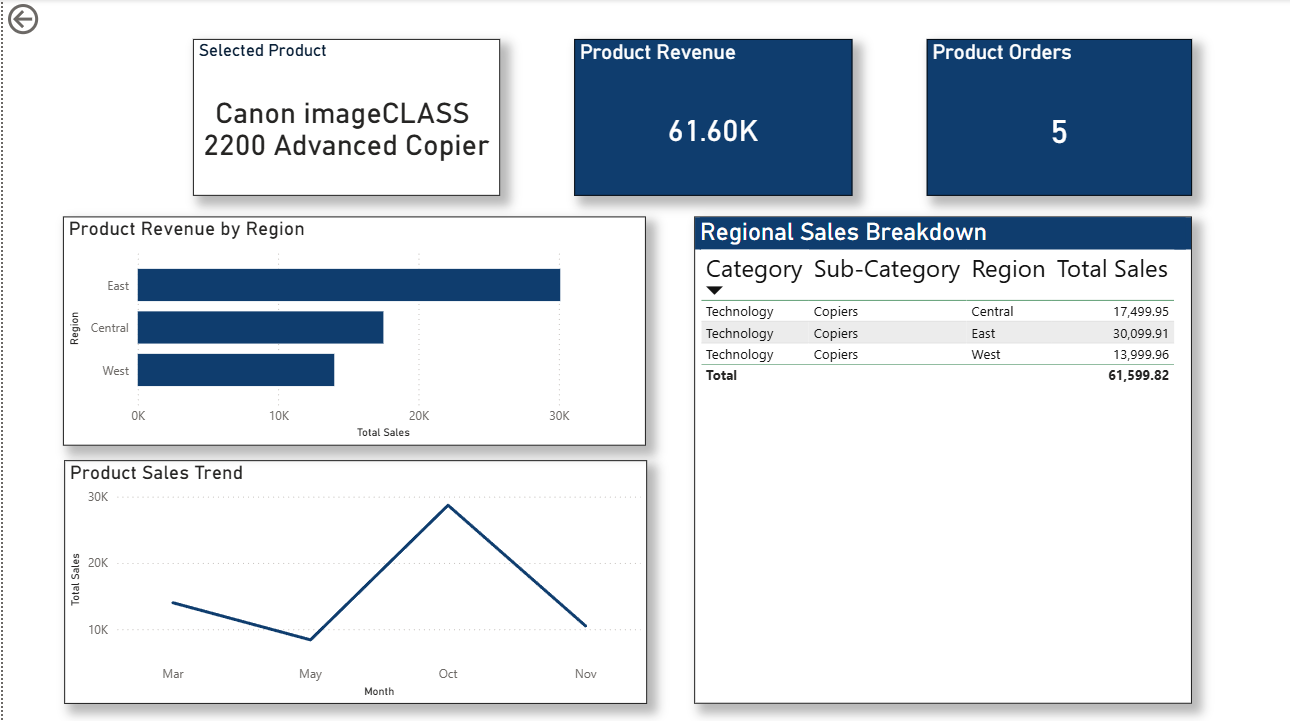

What the dashboard file says about the page in this screenshot:
{"tool":"powerbi","page":{"name":"Product Deep Dive Analysis","canvas":[1280,720],"ordinal":5},"visuals":[{"type":"actionButton","box":[0,0,100,40],"z":0},{"type":"card","title":"Product Revenue","fields":{"Values":["FactSales.Total Sales"]},"box":[568.4,40.4,277,155.8],"z":1},{"type":"card","title":"Product Orders","fields":{"Values":["FactSales.Total Orders"]},"box":[919,40.4,264,155.8],"z":2},{"type":"lineChart","title":"Product Sales Trend","fields":{"Category":["Date Table.Month"],"Y":["FactSales.Total Sales"]},"box":[60.6,458.8,580,242.4],"z":3},{"type":"clusteredBarChart","title":"Product Revenue by Region","fields":{"Category":["FactSales.Region"],"Y":["FactSales.Total Sales"]},"box":[59.7,216.4,579.7,227.6],"z":4},{"type":"tableEx","title":"Regional Sales Breakdown","fields":{"Values":["FactSales.Category","FactSales.Sub-Category","FactSales.Region","FactSales.Total Sales"]},"box":[688.2,216.4,494.9,484.8],"z":5},{"type":"card","title":"Selected Product ","fields":{"Values":["Min(FactSales.Product Name)"]},"box":[189,40.4,305.9,155.8],"z":6}]}

Visuals, with their boxes in screenshot pixels (x1, y1, x2, y2), scaled from the page's 1280x720 canvas onto the 1290x721 screenshot:
actionButton: <box>0,0,101,40</box>
"Product Revenue" card: <box>573,40,852,196</box>
"Product Orders" card: <box>926,40,1192,196</box>
"Product Sales Trend" lineChart: <box>61,459,646,702</box>
"Product Revenue by Region" clusteredBarChart: <box>60,217,644,445</box>
"Regional Sales Breakdown" tableEx: <box>694,217,1192,702</box>
"Selected Product " card: <box>190,40,499,196</box>
